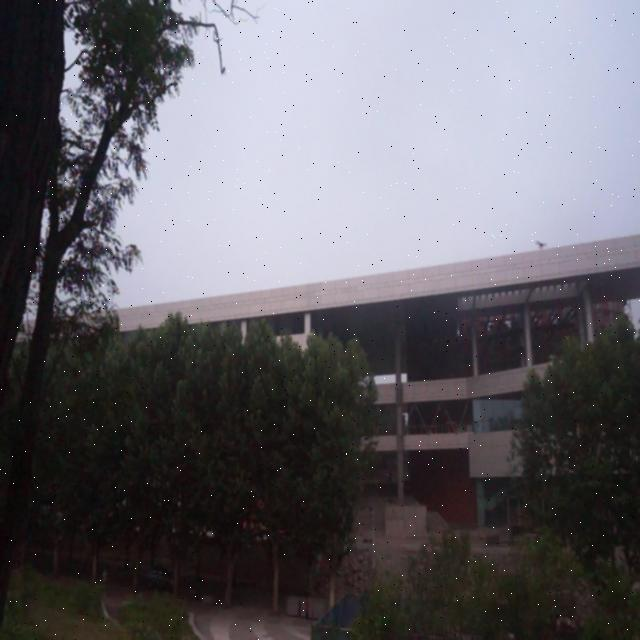UAV: (535, 240, 548, 250)
